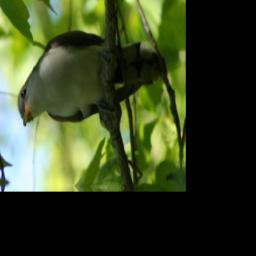Cuckoo: (17, 26, 167, 134)
